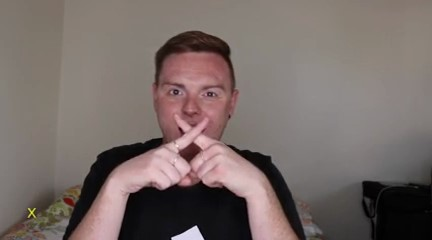X: (132, 111, 261, 199)
